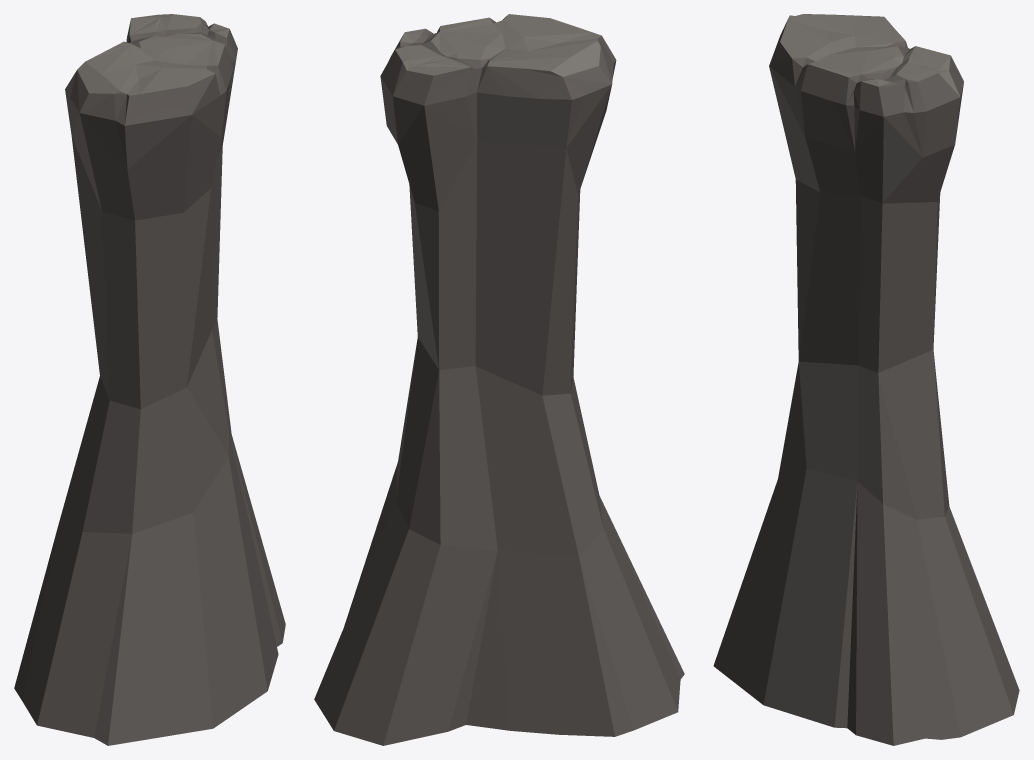
The model's file is SM_Env_Rock_Flat_Platform_06.glb.
3 renders of one model, left to right at view 1: azimuth 30°, elevation 25°; view 2: azimuth 150°, elevation 25°; view 3: azimuth 270°, elevation 25°, orthographic. The views are drawn at different scales.
Visible parts, largest first — view 1: SM_Env_Rock_Flat_Platform_06; view 2: SM_Env_Rock_Flat_Platform_06; view 3: SM_Env_Rock_Flat_Platform_06.
Boxes of the visible parts, left/top/right/bottom form: SM_Env_Rock_Flat_Platform_06: left=14, top=14, right=285, bottom=745; SM_Env_Rock_Flat_Platform_06: left=314, top=14, right=684, bottom=745; SM_Env_Rock_Flat_Platform_06: left=713, top=14, right=1019, bottom=745.
Bounding box in the file's own units: 0.03 × 0.061 × 0.027.
1 material, 1 textured.
